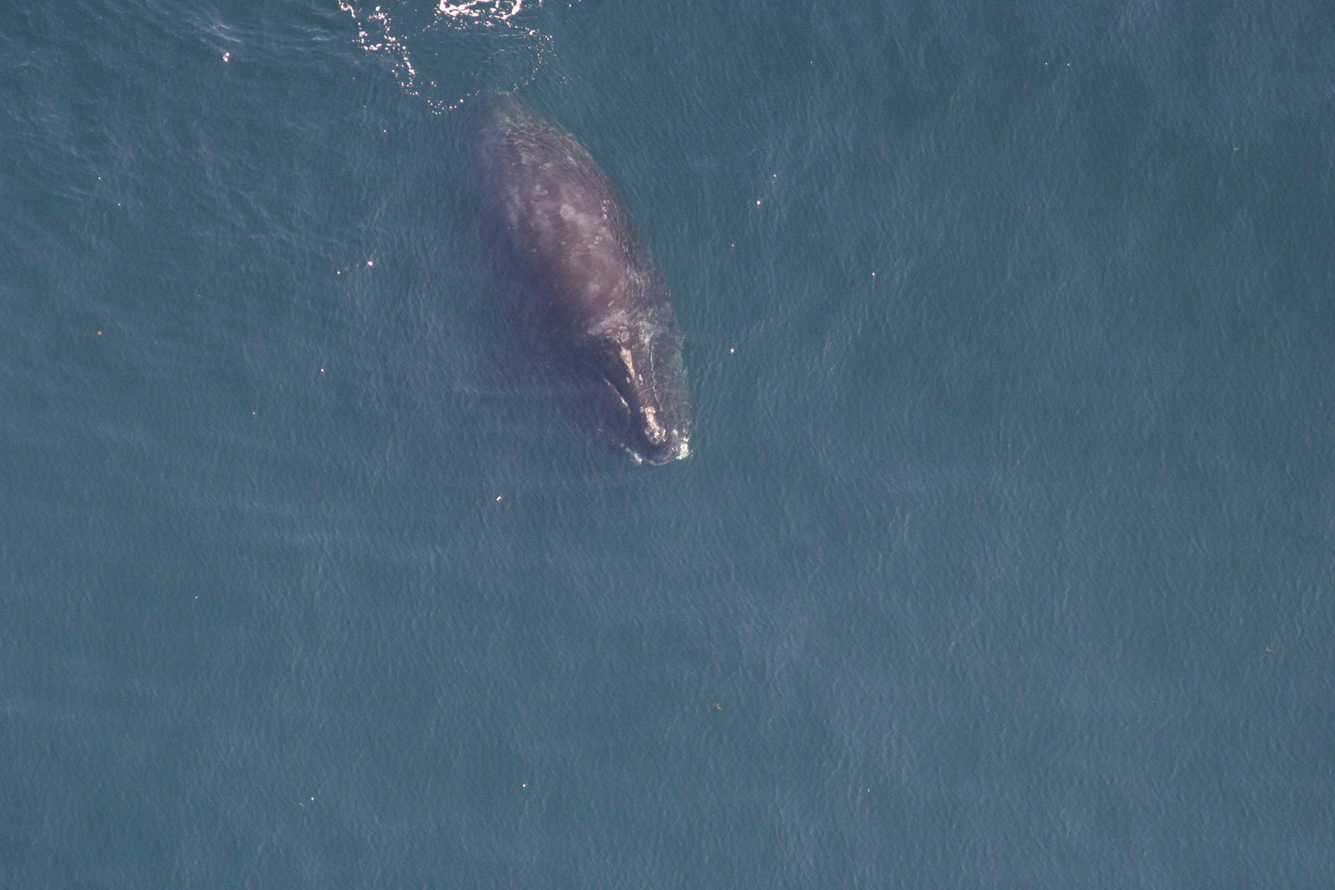whale: (403, 36, 704, 482)
